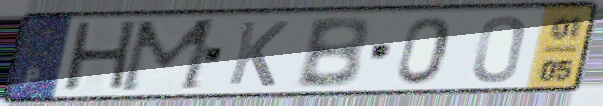0: (394, 15, 456, 86), (469, 13, 528, 85)
B: (292, 14, 373, 90)
H: (57, 18, 141, 97)
K: (224, 19, 293, 89)
M: (115, 16, 223, 96)
